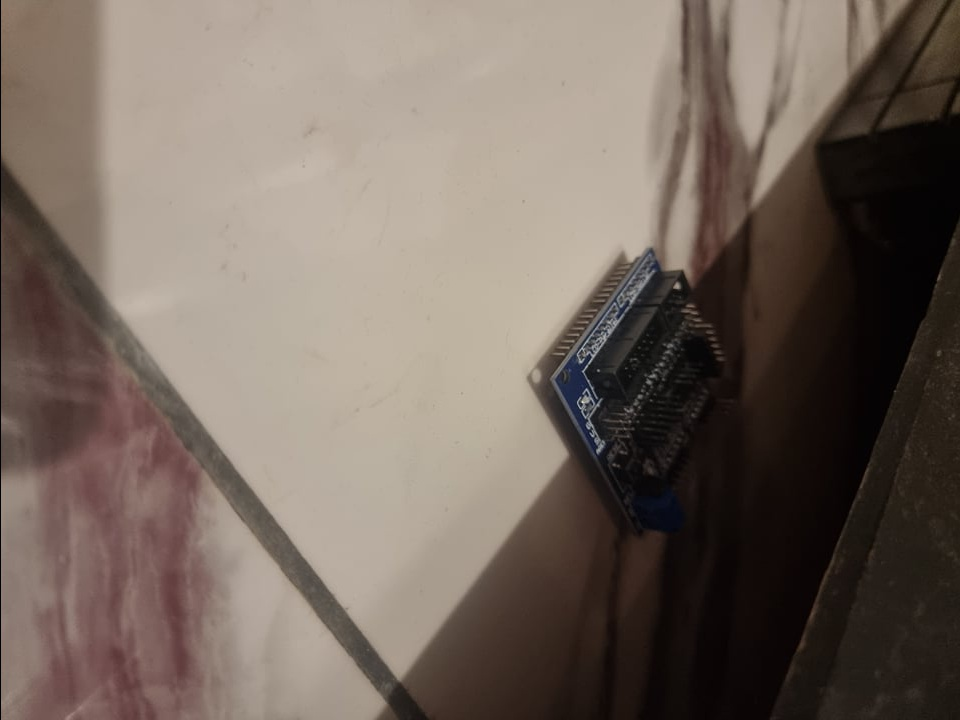5V EXPANSION: (541, 247, 735, 539)
